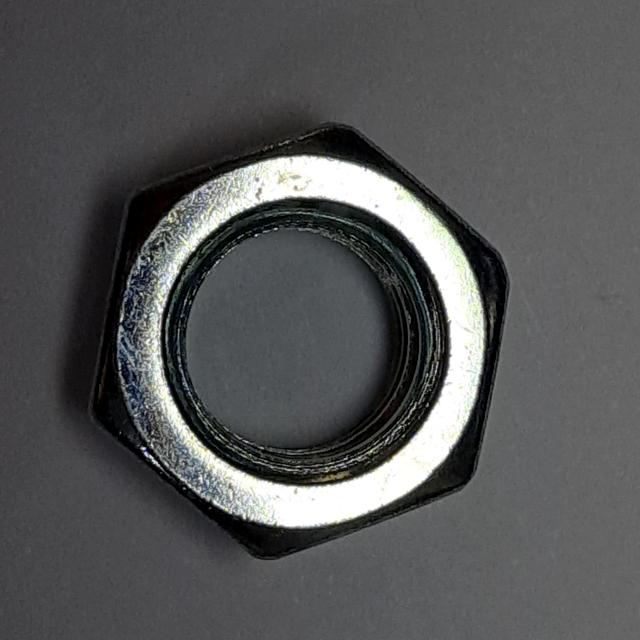Excellent: (74, 104, 519, 575)
